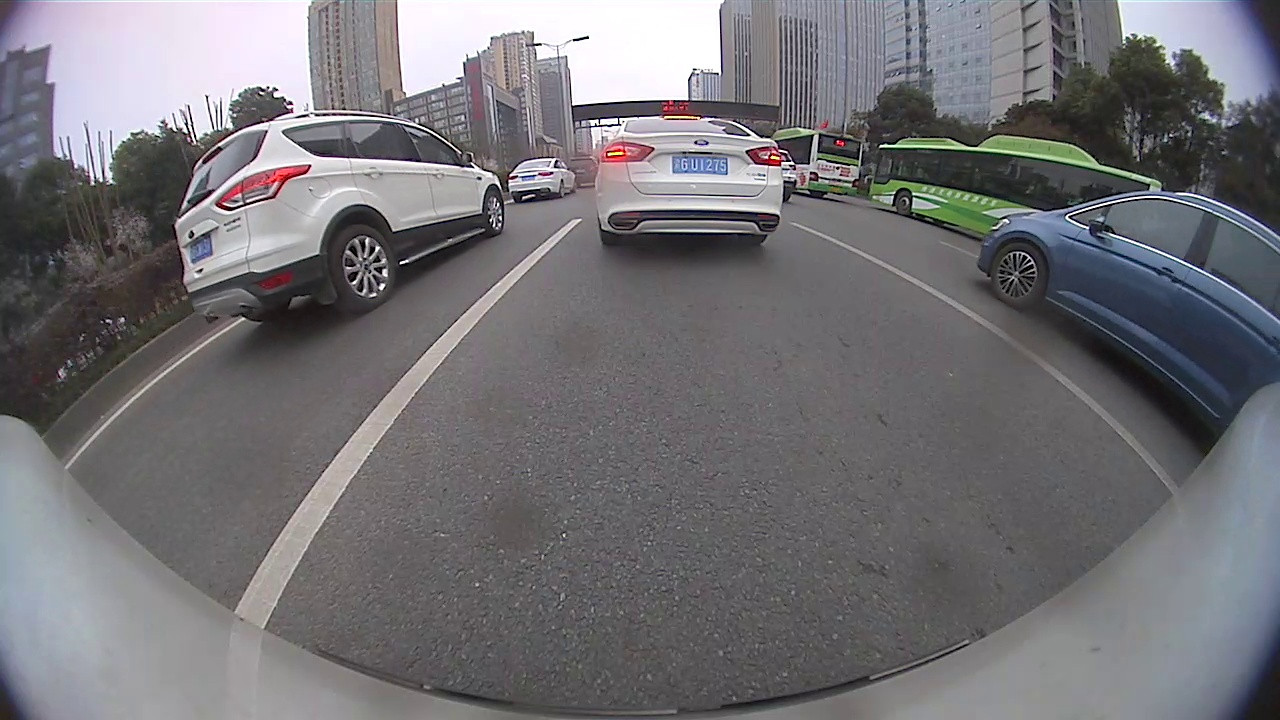bus: (866, 134, 1162, 236), (771, 128, 862, 198)
car: (977, 189, 1279, 441), (174, 109, 506, 323), (594, 115, 785, 247), (508, 157, 577, 203), (777, 150, 797, 203), (567, 156, 599, 187)
front: (987, 240, 1046, 310), (484, 192, 509, 235), (890, 190, 913, 219)
rear: (331, 229, 399, 310)
